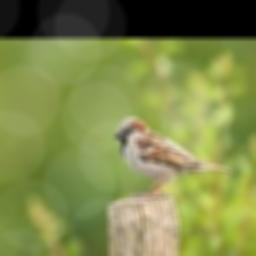Sparrow: (114, 117, 234, 197)
